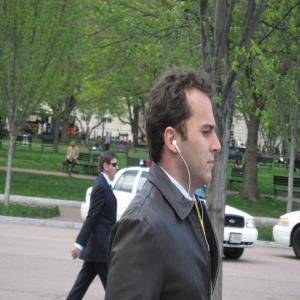Vehicle-registration-plate: (231, 234, 243, 244)
